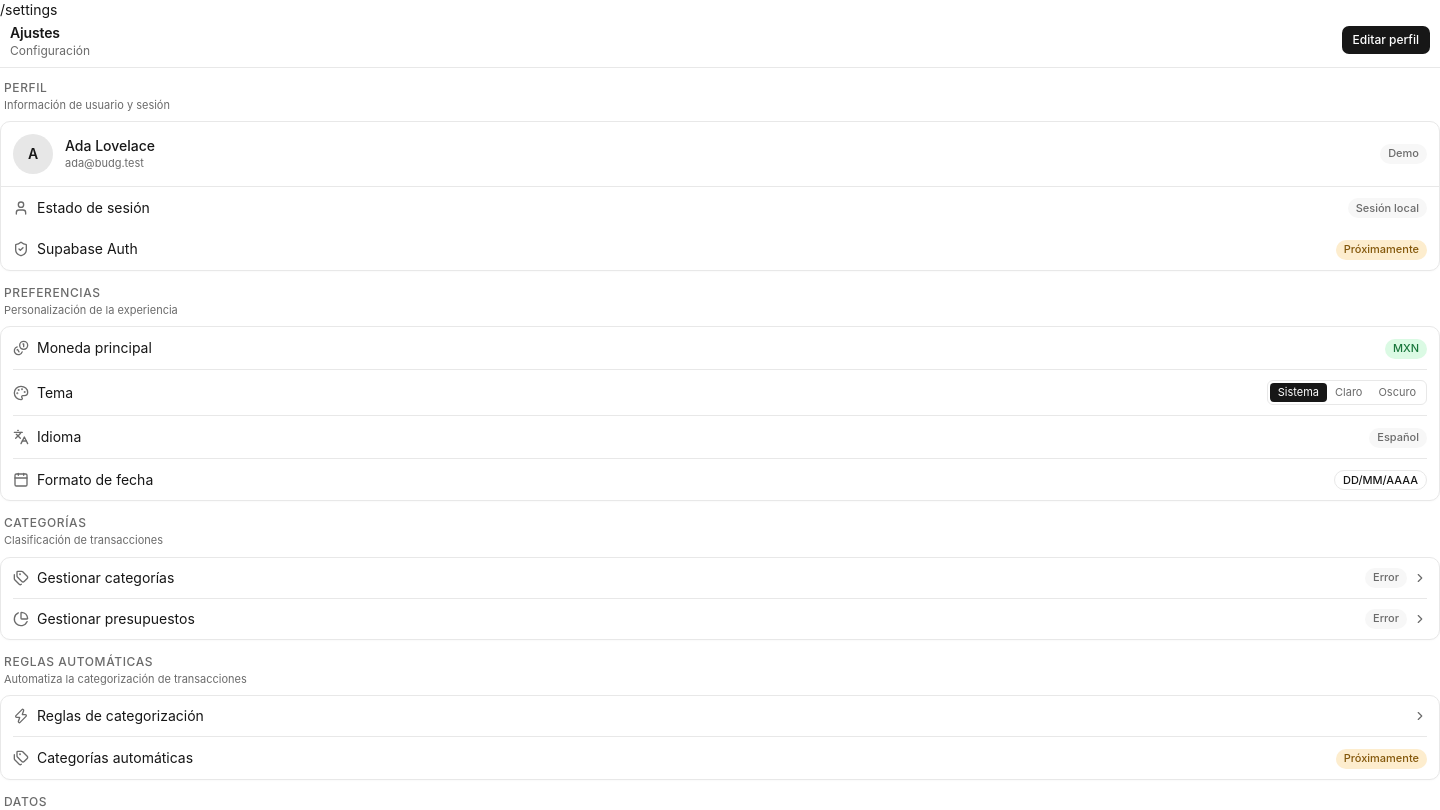
Test: SettingsPage › shows accessible dependency errors instead of zero counts while preserving local settings
The width and height of the screenshot is (1440, 810).
Expected: the message named "Error al cargar categorías" is shown, [1373,572,1399,583]
Expected: the message named "Error al cargar presupuestos" is shown, [1373,613,1399,624]
Click the button "Oscuro": [1397, 393] box [1370,383,1424,402]
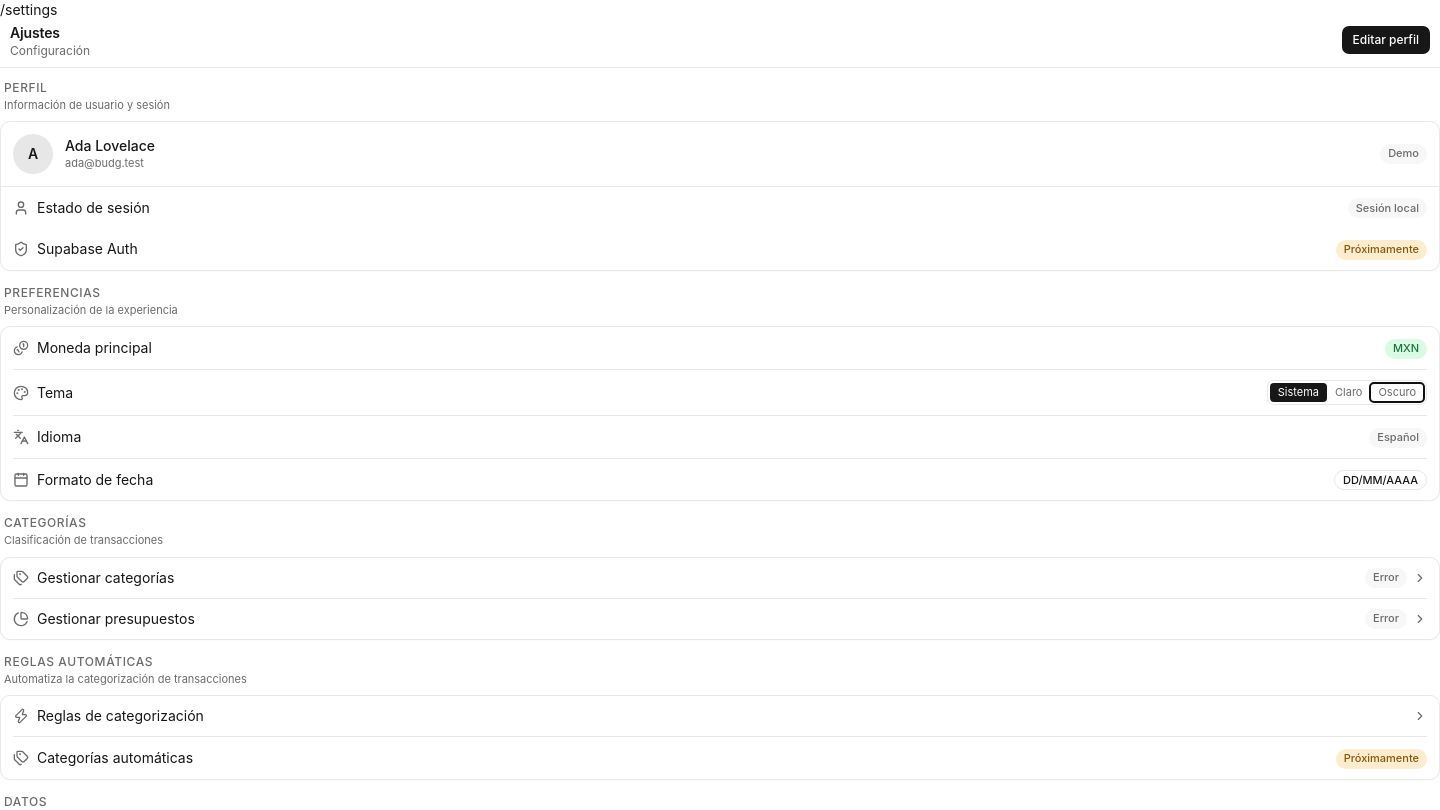
Click the button "Editar perfil": [1386, 40] box [1342,26,1430,54]
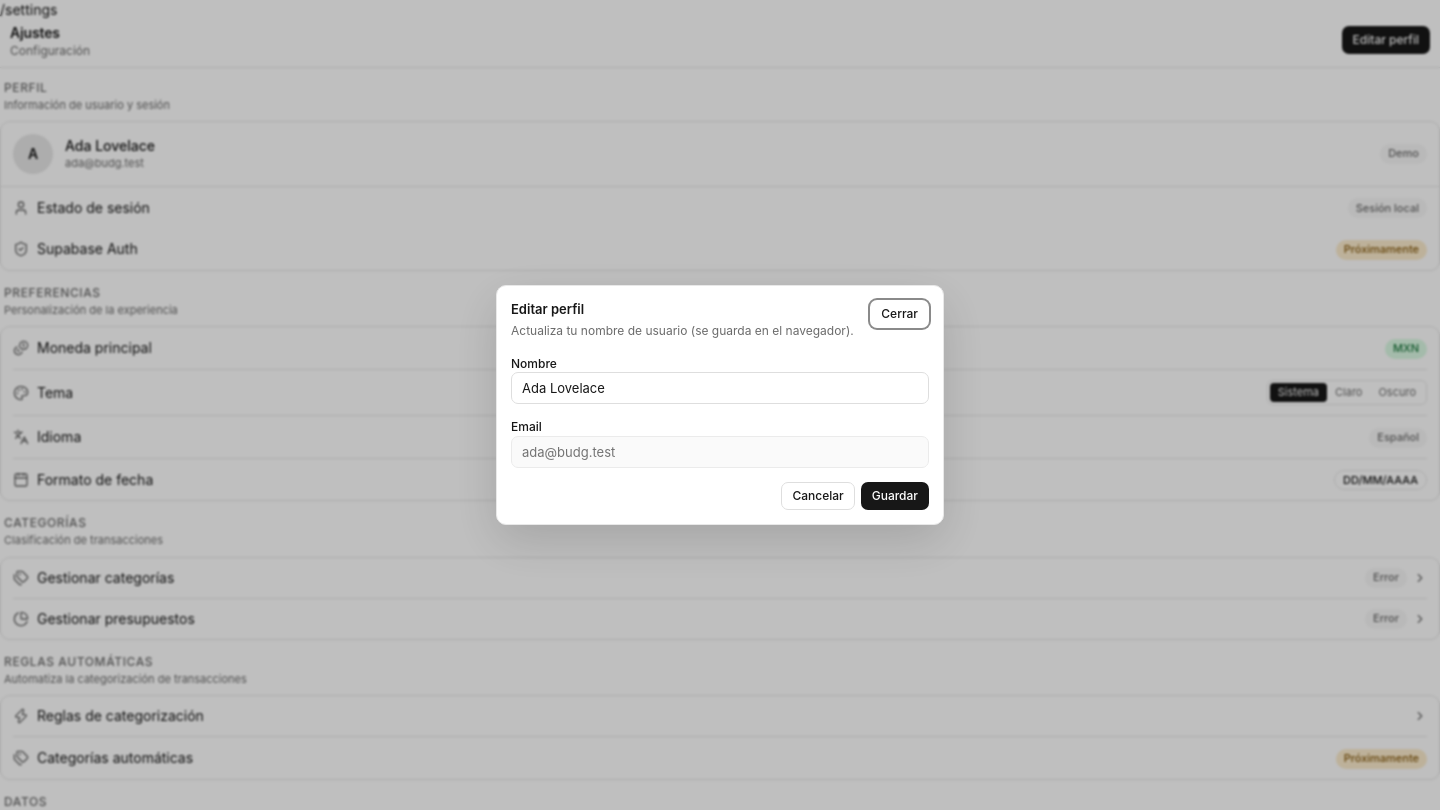
Expected: the dialog "Editar perfil" is shown, [496,285,944,525]
